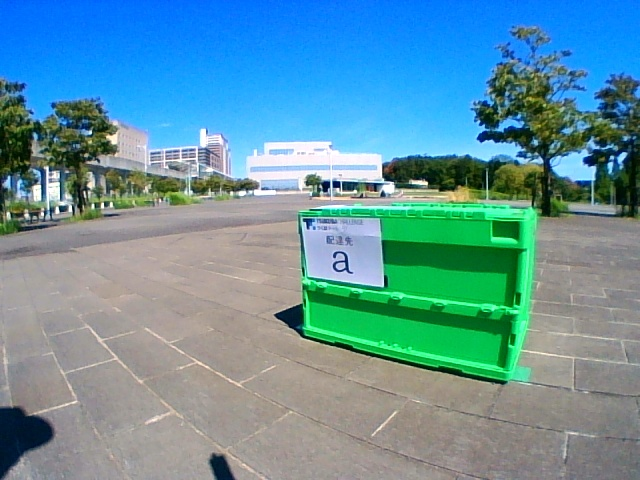green_box: (298, 202, 536, 382)
tag_a: (308, 220, 378, 279)
